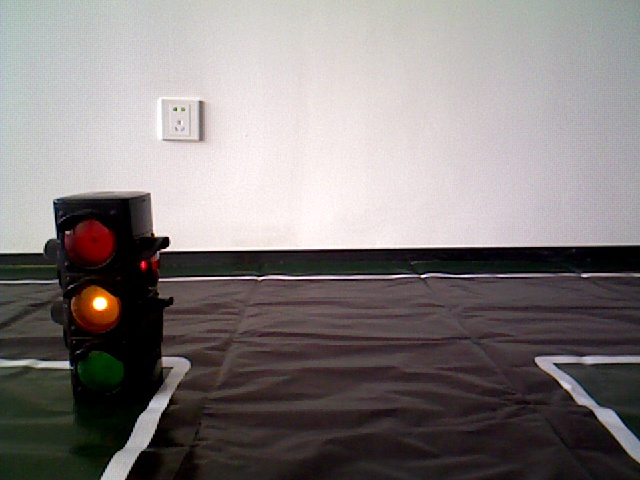yellow: (51, 193, 157, 384)
